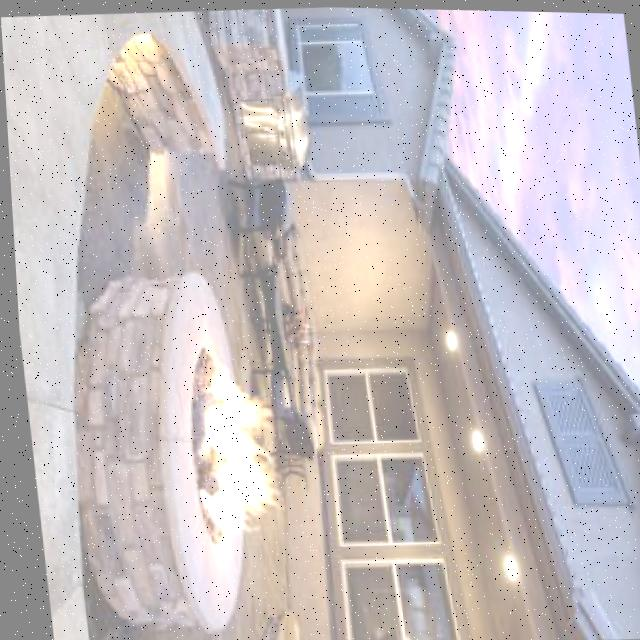Fire: (167, 342, 286, 538)
